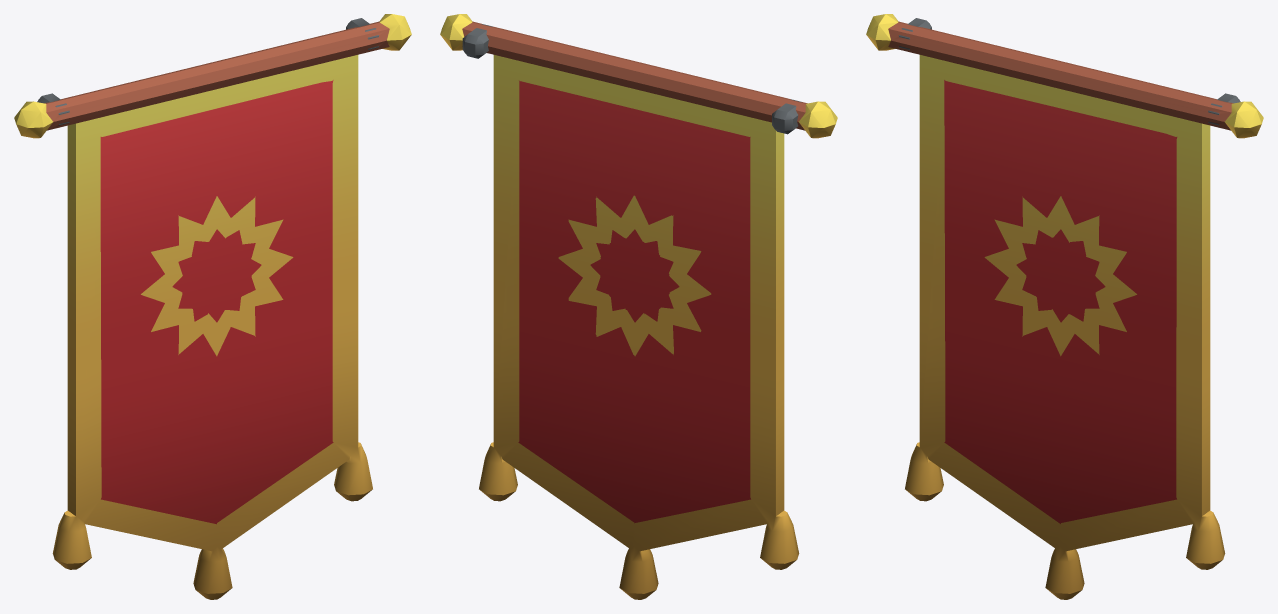
The model's file is tapestry_red.glb.
3 views of the same model, side by side, from view 1: azimuth 30°, elevation 25°; view 2: azimuth 150°, elevation 25°; view 3: azimuth 330°, elevation 25° (orthographic).
Parts seen in each view (by area): view 1: Item; view 2: Item; view 3: Item.
Boxes of the visible parts, <box> form: Item: <box>14,14,411,599</box>; Item: <box>440,14,837,599</box>; Item: <box>866,14,1263,599</box>.
Size of the model in its own units: 2.24 by 2.93 by 0.24.
3 materials, 3 textured.
